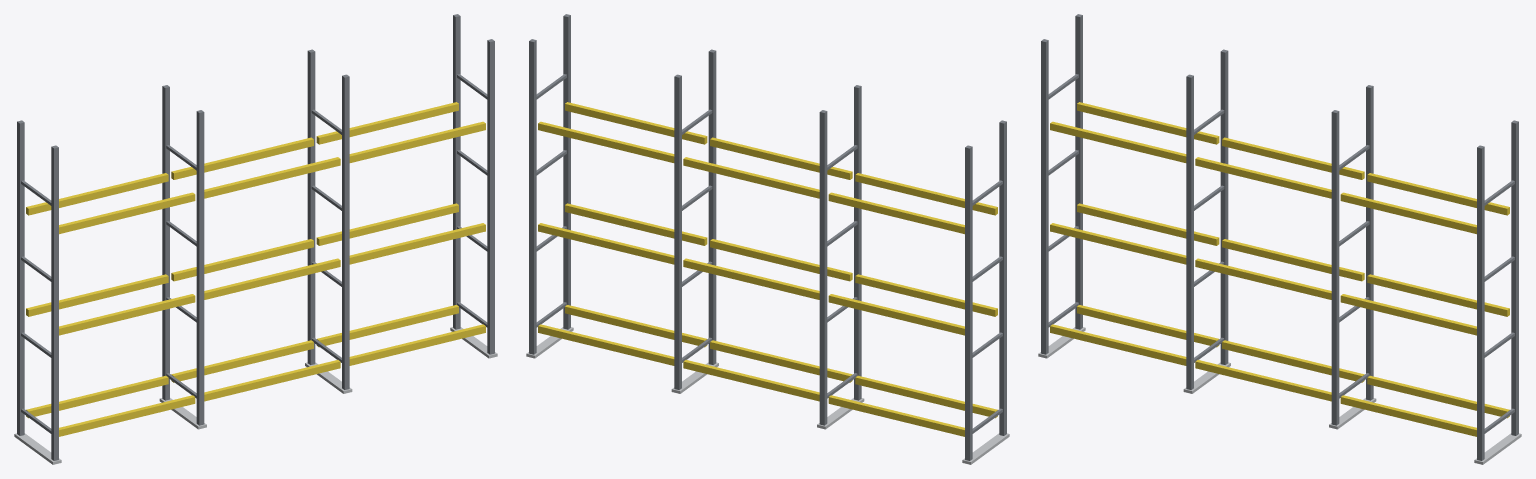
Rendered from SM_PALLET_RACK.fbx.
The picture shows the model from 3 angles, left to right: view 1: azimuth 30°, elevation 25°; view 2: azimuth 150°, elevation 25°; view 3: azimuth 330°, elevation 25°; orthographic projection.
Visible parts, largest first — view 1: SM_PALLET_RACK; view 2: SM_PALLET_RACK; view 3: SM_PALLET_RACK.
Boxes of the visible parts, x1=… form: SM_PALLET_RACK: x1=14, y1=14, x2=497, y2=464; SM_PALLET_RACK: x1=526, y1=14, x2=1009, y2=464; SM_PALLET_RACK: x1=1038, y1=14, x2=1521, y2=464.
Size of the model in its own units: 826 by 560 by 124.
